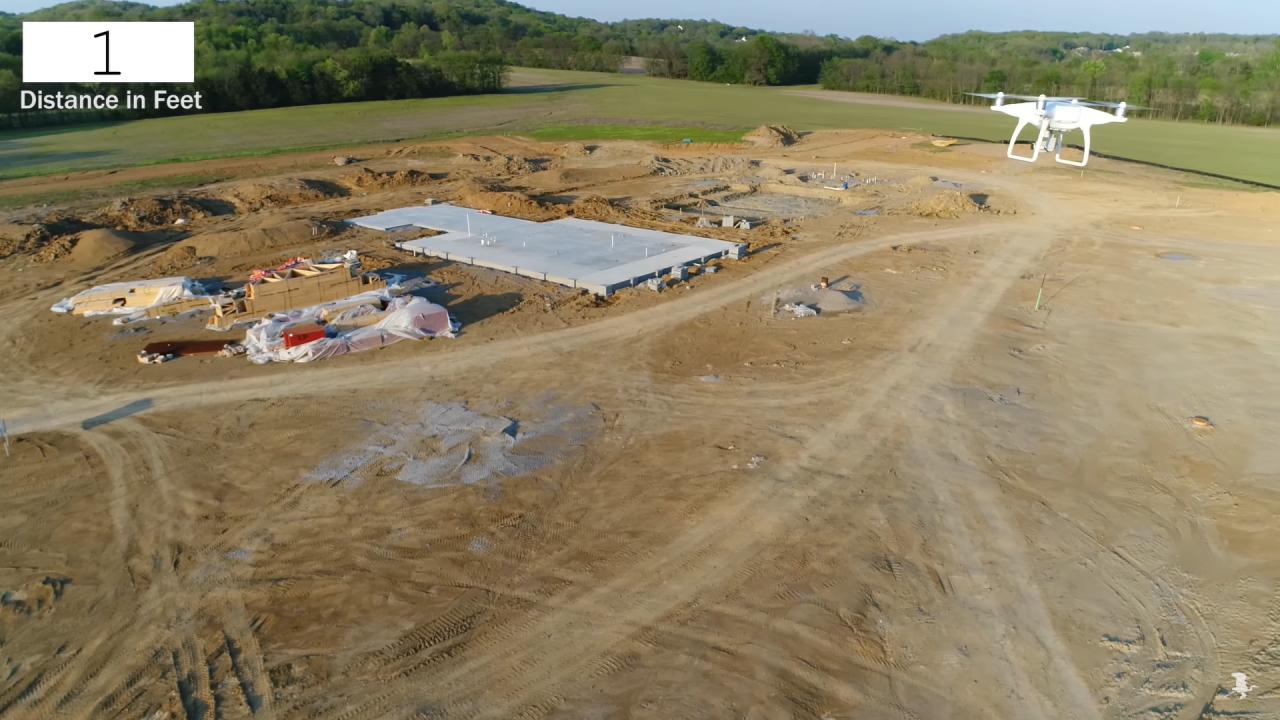Drone: (956, 80, 1156, 178)
